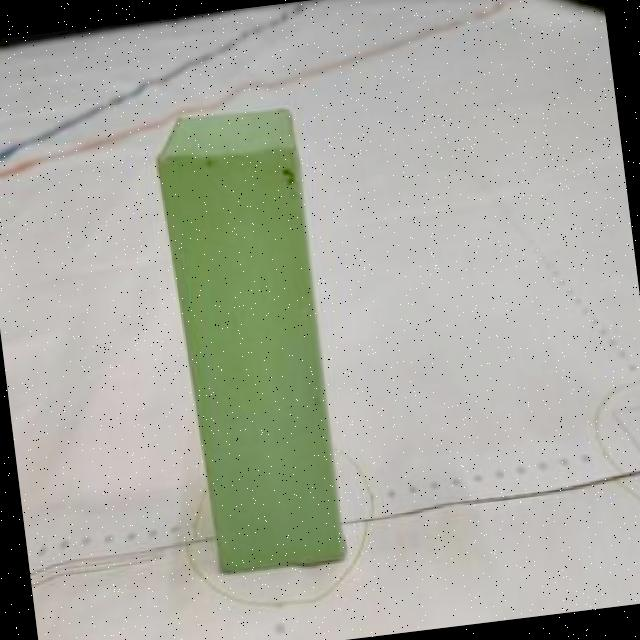greenbox: (156, 104, 350, 576)
